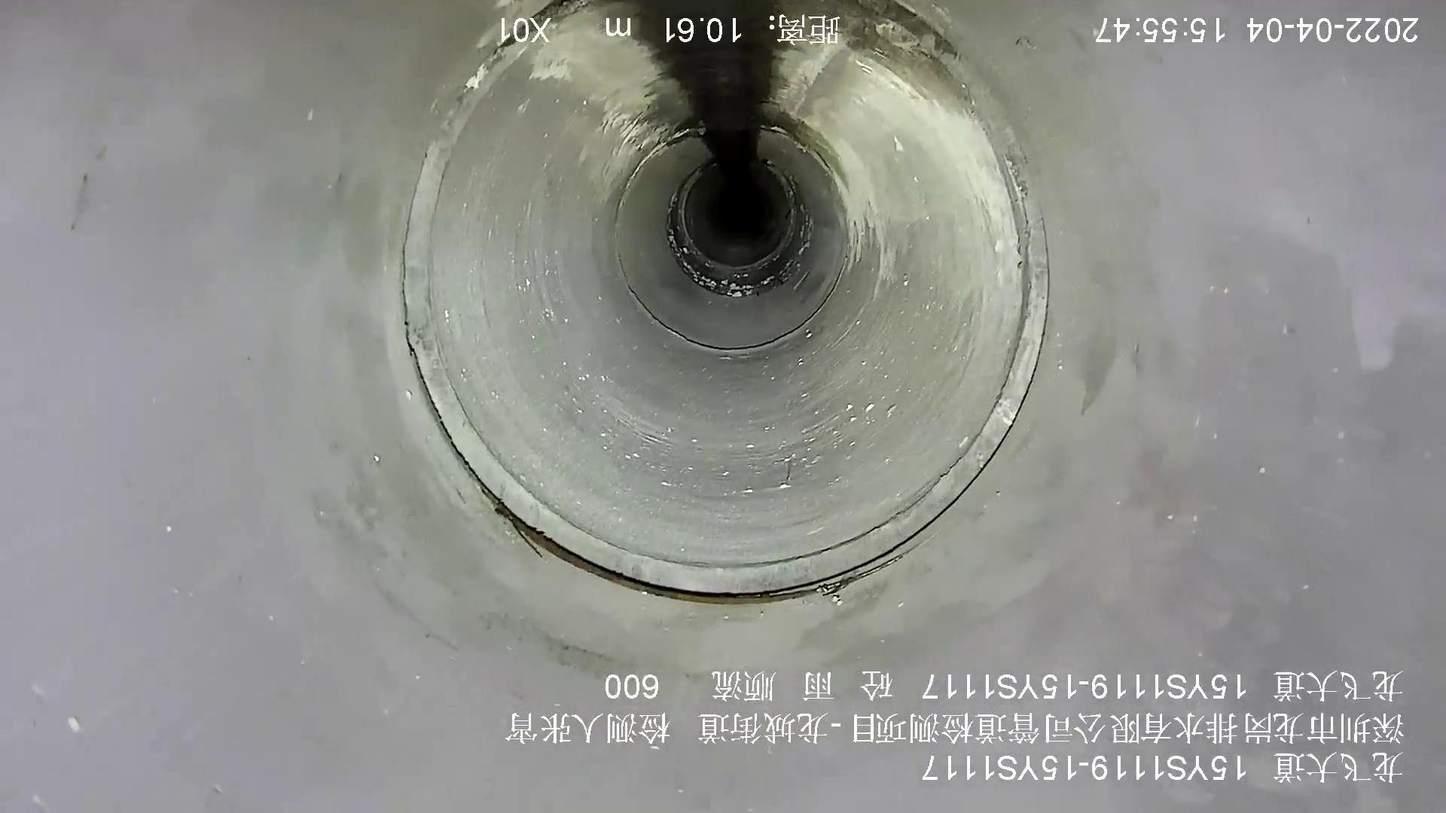CKTJ: (401, 26, 1049, 605), (624, 255, 853, 354)
